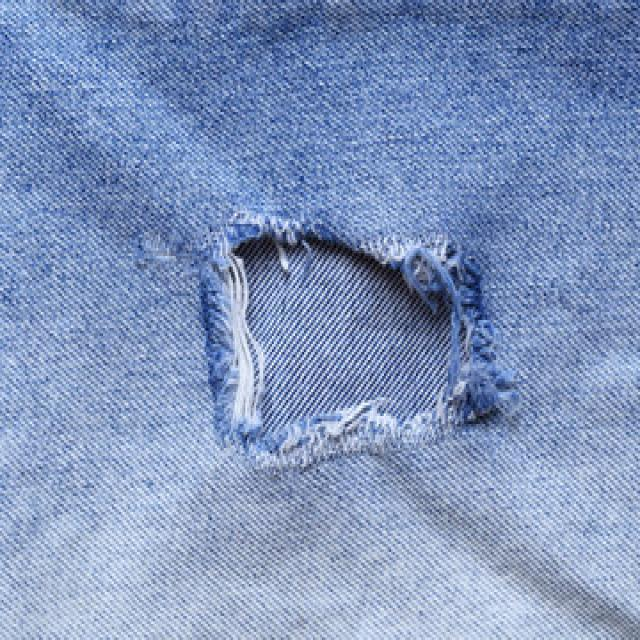Hole: (201, 214, 518, 472)
